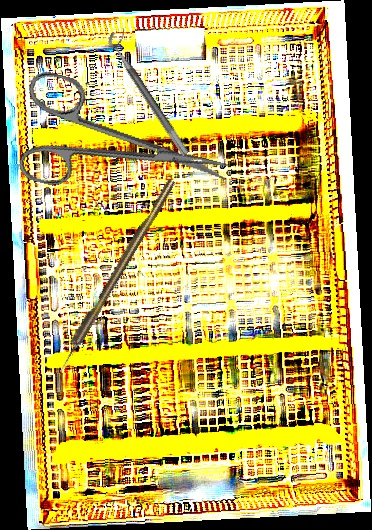Fixation Ring: (104, 26, 200, 157)
Hook Surgical: (53, 178, 178, 374)
Iris Scissors: (5, 67, 243, 230)
